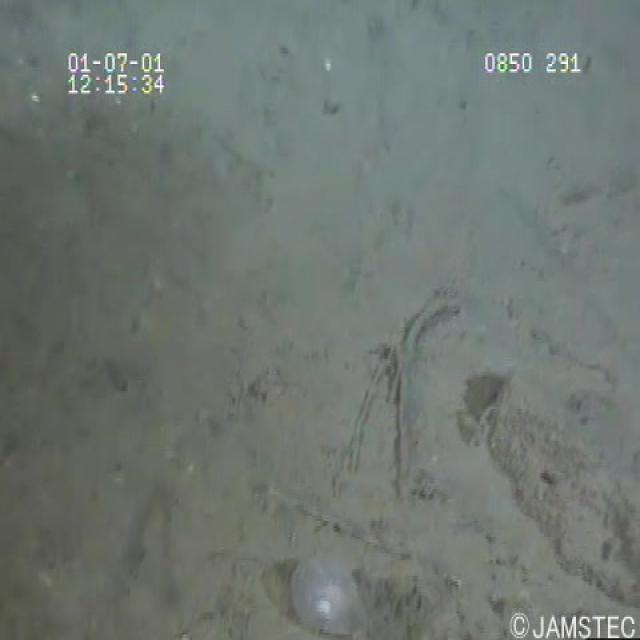plastic: (280, 539, 368, 638)
